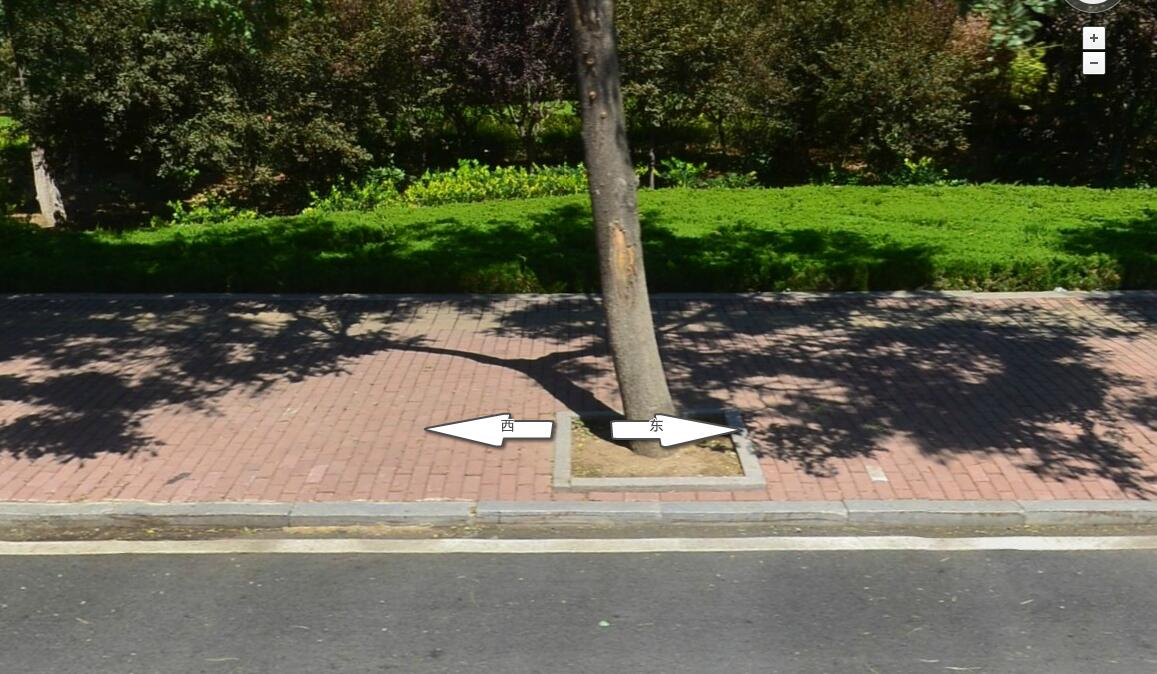side: (474, 499, 663, 531), (661, 501, 849, 532), (847, 500, 1028, 531), (287, 499, 478, 527)
